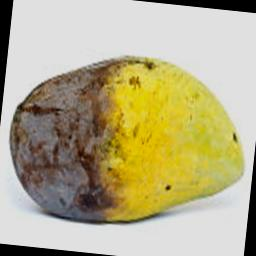Mango Rotten: (0, 49, 256, 244)
